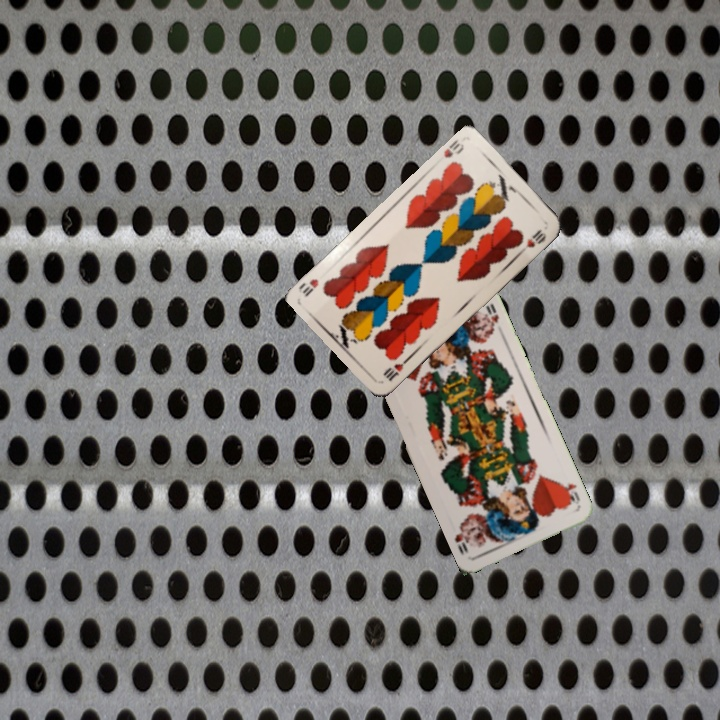H10: (379, 353, 412, 384), (439, 136, 467, 160)
HO: (556, 476, 583, 509)
